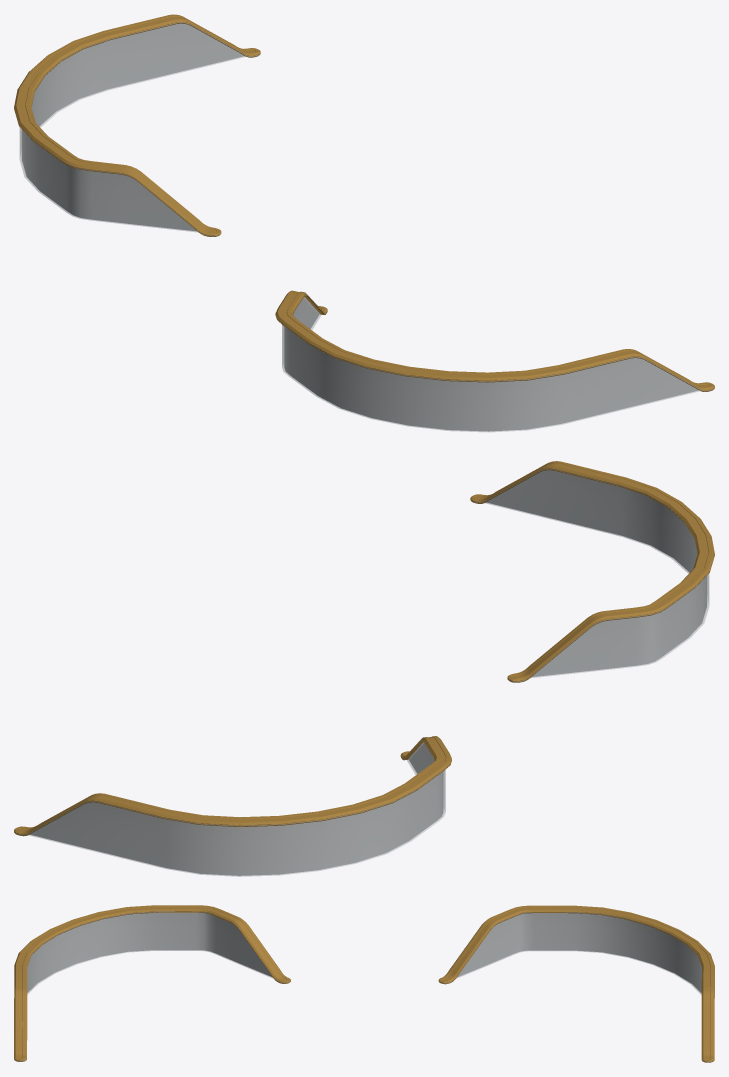
File: BSPKWL_Rounded.fbx
The picture shows the model from 3 angles, top to bottom: view 1: azimuth 30°, elevation 25°; view 2: azimuth 150°, elevation 25°; view 3: azimuth 270°, elevation 25°; orthographic projection. The views are drawn at different scales.
Visible parts, largest first — view 1: sm_wall_medium_screen.014; view 2: sm_wall_medium_screen.014; view 3: sm_wall_medium_screen.014.
Boxes of the visible parts, box(x1,y1,x2,y2) form: sm_wall_medium_screen.014: box(14, 14, 714, 432); sm_wall_medium_screen.014: box(14, 461, 714, 876); sm_wall_medium_screen.014: box(14, 905, 714, 1062).
Bounding box in the file's own units: 3445 × 581 × 8772.
